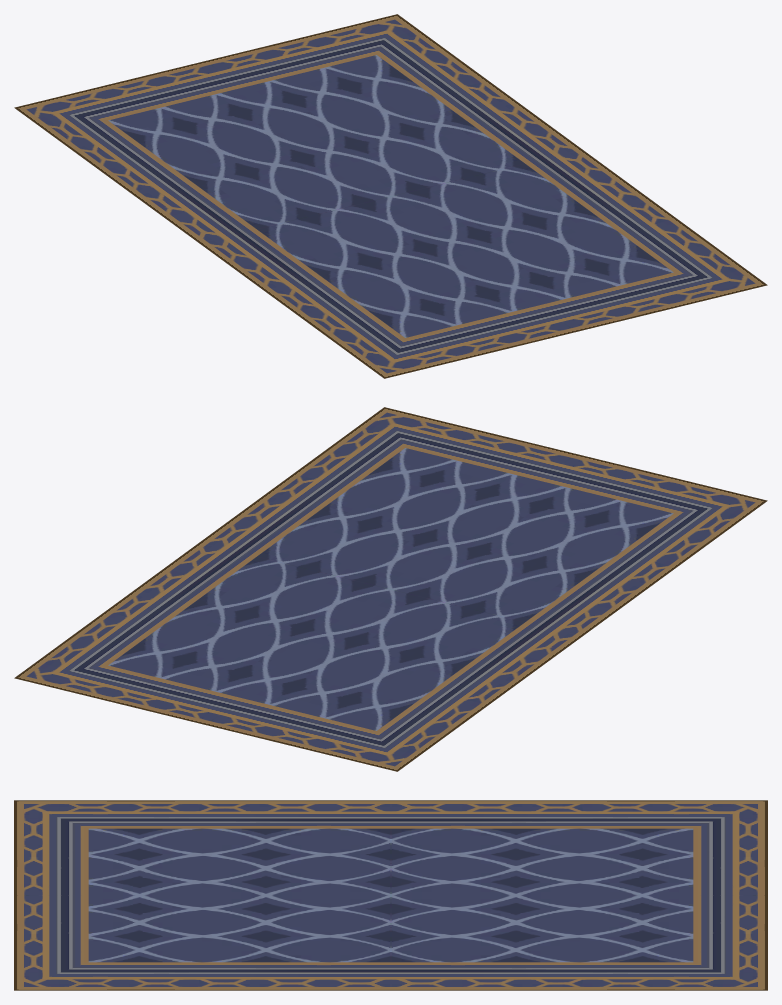
Rendered from my_gehennaparty_01_carpet_01.glb.
3 renders of one model, top to bottom at view 1: azimuth 30°, elevation 25°; view 2: azimuth 150°, elevation 25°; view 3: azimuth 270°, elevation 25°, orthographic.
Visible parts, largest first — view 1: my_gehennaparty_01_carpet_01; view 2: my_gehennaparty_01_carpet_01; view 3: my_gehennaparty_01_carpet_01.
Boxes of the visible parts, left/top/right/bottom form: my_gehennaparty_01_carpet_01: left=14, top=14, right=767, bottom=378; my_gehennaparty_01_carpet_01: left=14, top=407, right=767, bottom=771; my_gehennaparty_01_carpet_01: left=14, top=800, right=767, bottom=990.
Bounding box in the file's own units: 0.0177 × 0 × 0.0296.
1 material, 1 textured.
